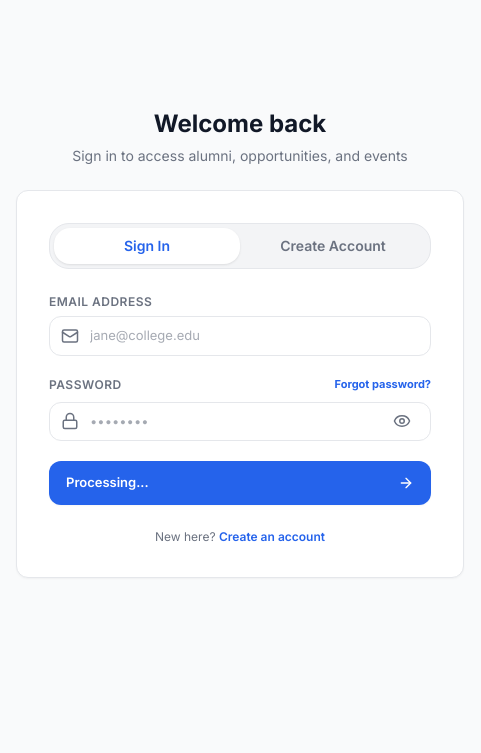
Test: AuthPage experience › renders the login form and allows switching to sign-up mode
The width and height of the screenshot is (481, 753).
Check: the heading "Welcome back" is shown, box [154,109,326,138]
Check: the field with placeholder "jane@college.edu" is shown, box [49,316,431,356]
Click the button "Create Account": [333, 246] box [240,228,426,264]
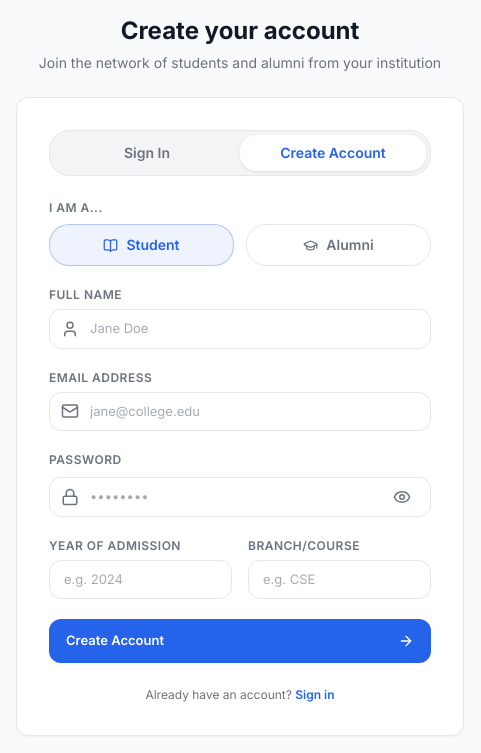
Check: the heading "Create your account" is shown, box [121,16,359,45]
